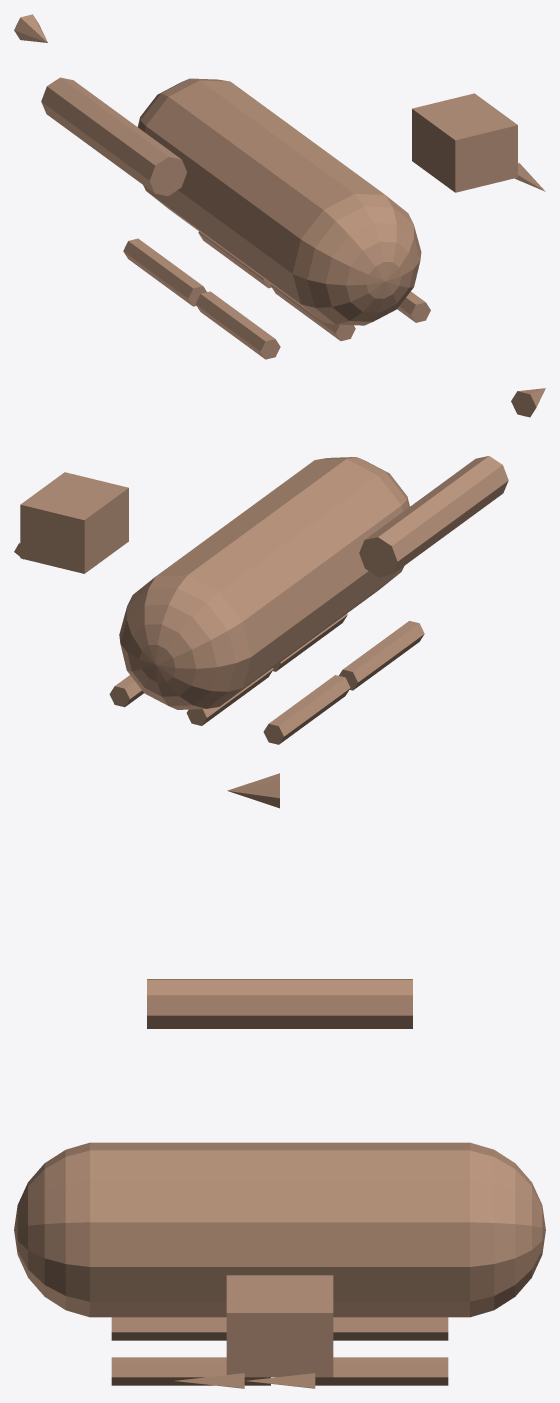
Rendered from Mantikora_B_Boss.glb.
3 views of the same model, one above another, from view 1: azimuth 30°, elevation 25°; view 2: azimuth 150°, elevation 25°; view 3: azimuth 270°, elevation 25° (orthographic). The views are drawn at different scales.
Visible parts, largest first — view 1: world; view 2: world; view 3: world.
Boxes of the visible parts, x1,y1,x2,y2 form: world: (14,14,545,359); world: (14,388,545,744); world: (14,773,545,1388).
Size of the model in its own units: 3.96 by 2.56 by 3.
